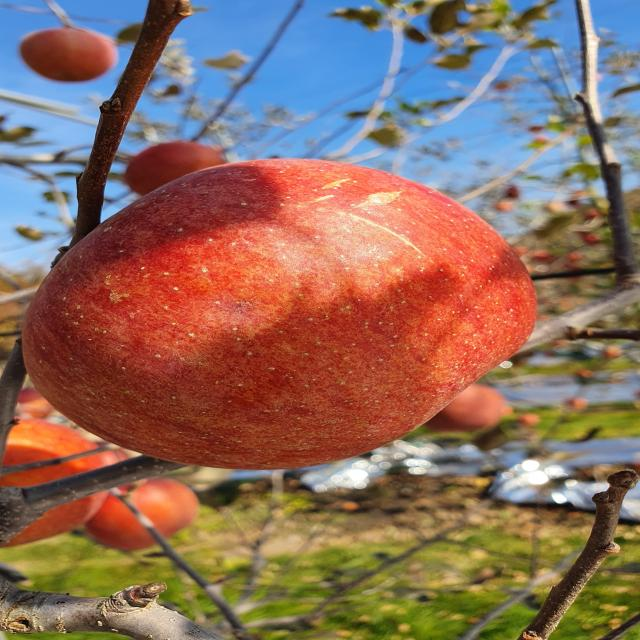fresh: (2, 152, 548, 477)
